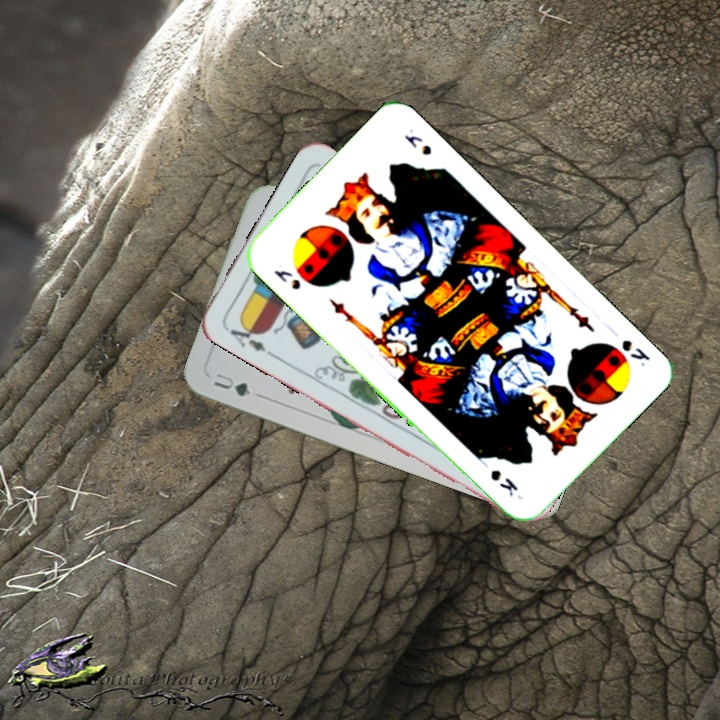EA: (222, 318, 276, 359)
GU: (209, 369, 254, 399)
SK: (617, 335, 653, 369), (269, 265, 304, 293)
